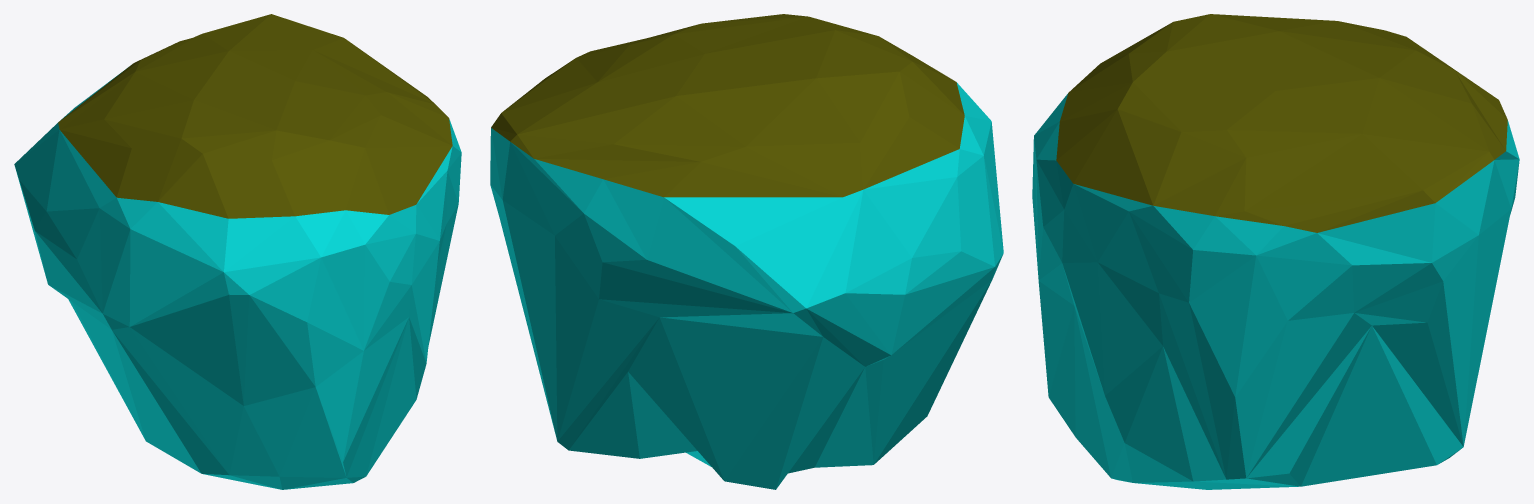
File: Rock long vertex.fbx
The picture shows the model from 3 angles, left to right: view 1: azimuth 30°, elevation 25°; view 2: azimuth 150°, elevation 25°; view 3: azimuth 270°, elevation 25°; orthographic projection. The views are drawn at different scales.
Parts seen in each view (by area): view 1: pPlatonic2; view 2: pPlatonic2; view 3: pPlatonic2.
Part boxes in pixels (x1,y1,x2,y2): pPlatonic2: [14, 14, 461, 489]; pPlatonic2: [490, 14, 1003, 489]; pPlatonic2: [1032, 14, 1519, 489].
Size of the model in its own units: 3.47 by 3.25 by 3.54.
